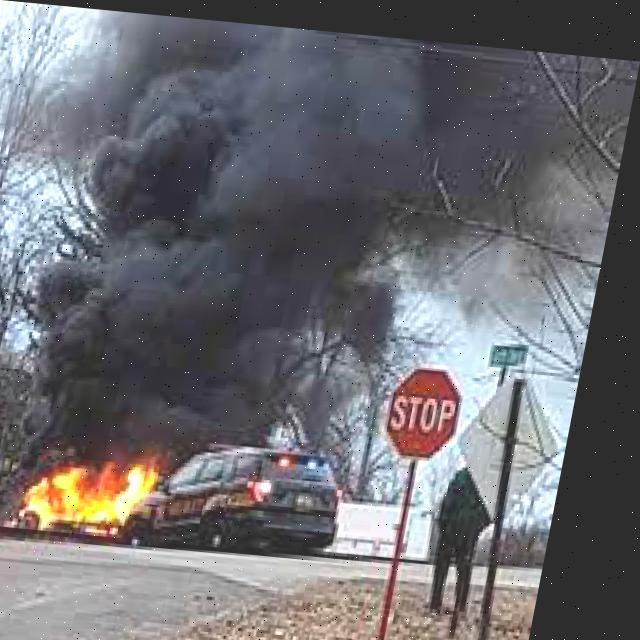Fire: (16, 423, 200, 568)
